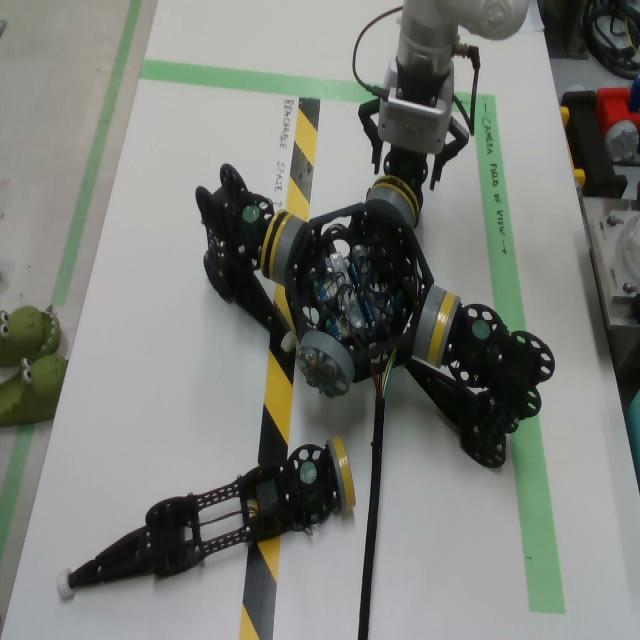body: (285, 203, 434, 384)
body_connector: (297, 331, 355, 399), (273, 216, 306, 287), (415, 285, 446, 360), (366, 187, 416, 229)
gripper: (358, 99, 470, 192)
leg: (56, 436, 356, 601), (403, 292, 555, 468), (194, 163, 297, 352), (371, 147, 428, 228)
leg_connector: (426, 292, 460, 369), (374, 175, 420, 227), (326, 436, 356, 513), (261, 209, 291, 280)
leg_marker: (301, 461, 317, 484), (472, 320, 490, 340), (242, 207, 260, 223)
